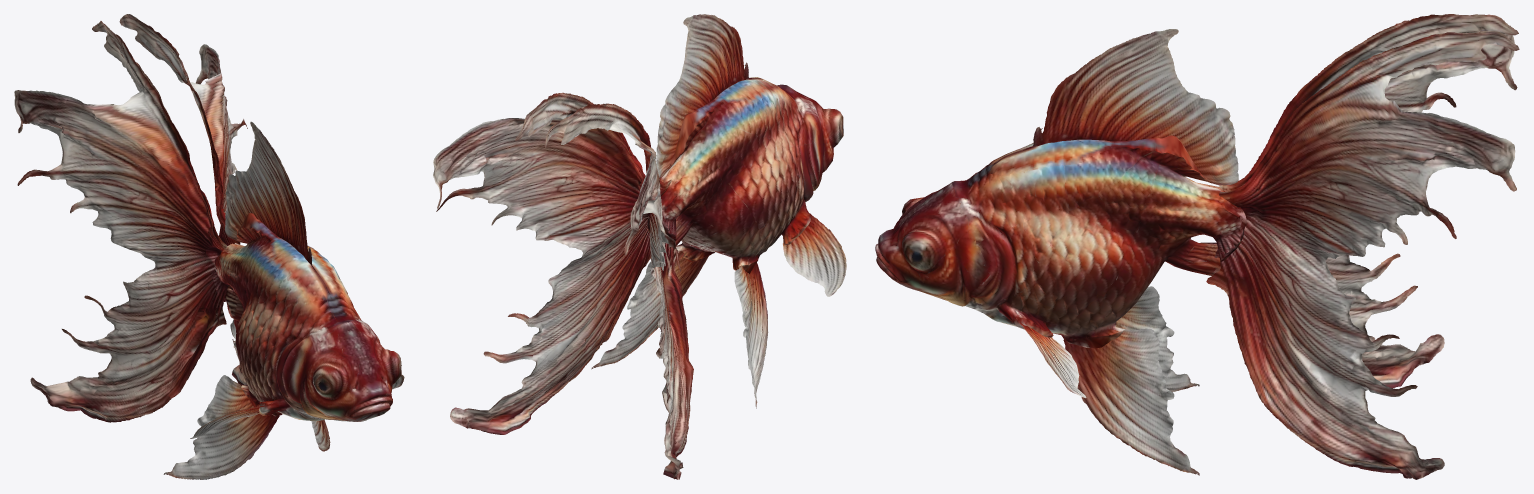
File: goldfish-natural-v2-lo.glb
3 views of the same model, side by side, from view 1: azimuth 30°, elevation 25°; view 2: azimuth 150°, elevation 25°; view 3: azimuth 270°, elevation 25° (orthographic). The views are drawn at different scales.
Visible parts, largest first — view 1: mesh_0; view 2: mesh_0; view 3: mesh_0.
Boxes of the visible parts, x1=… form: mesh_0: x1=14, y1=14, x2=404, y2=479; mesh_0: x1=433, y1=14, x2=846, y2=479; mesh_0: x1=875, y1=14, x2=1519, y2=479.
Size of the model in its own units: 0.9213 by 1.33 by 1.9.
Materials: 1 (1 with a texture image).
